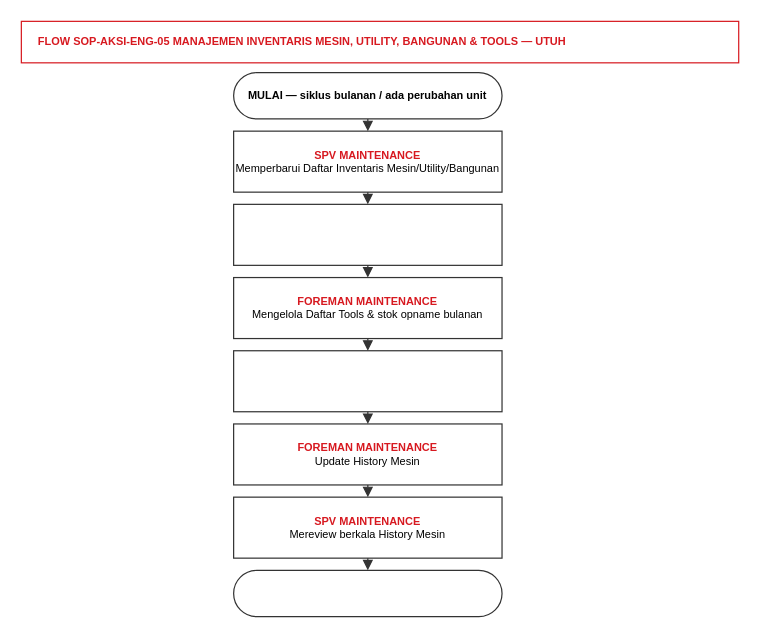
This 760x638 diagram has some shape labels left out. The centre of each missing label's shape, as x and y in pixels:
"SELESAI" belongs at point 367,593.
"SPV MAINTENANCE Menyusun/memperbarui PM Schedule" belongs at point 367,234.
"TEKNISI Melaporkan hasil perbaikan/PM/pemakaian spare part" belongs at point 367,381.
